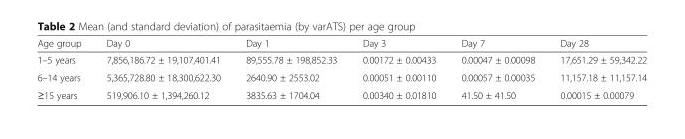table: (36, 37, 646, 100)
table column: (93, 37, 232, 100), (232, 37, 349, 100), (546, 37, 646, 100), (349, 37, 448, 100), (448, 37, 546, 100), (36, 37, 93, 100)
table column header: (36, 37, 646, 51)
table row: (36, 51, 646, 68), (36, 68, 646, 85), (36, 85, 646, 100), (36, 37, 646, 51)
